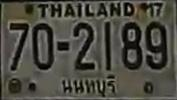0: (32, 22, 53, 69)
1: (104, 20, 110, 70)
2: (73, 22, 94, 70)
7: (9, 22, 28, 70)
8: (121, 21, 141, 69)
9: (145, 20, 167, 68)
NBI: (58, 73, 121, 98)
